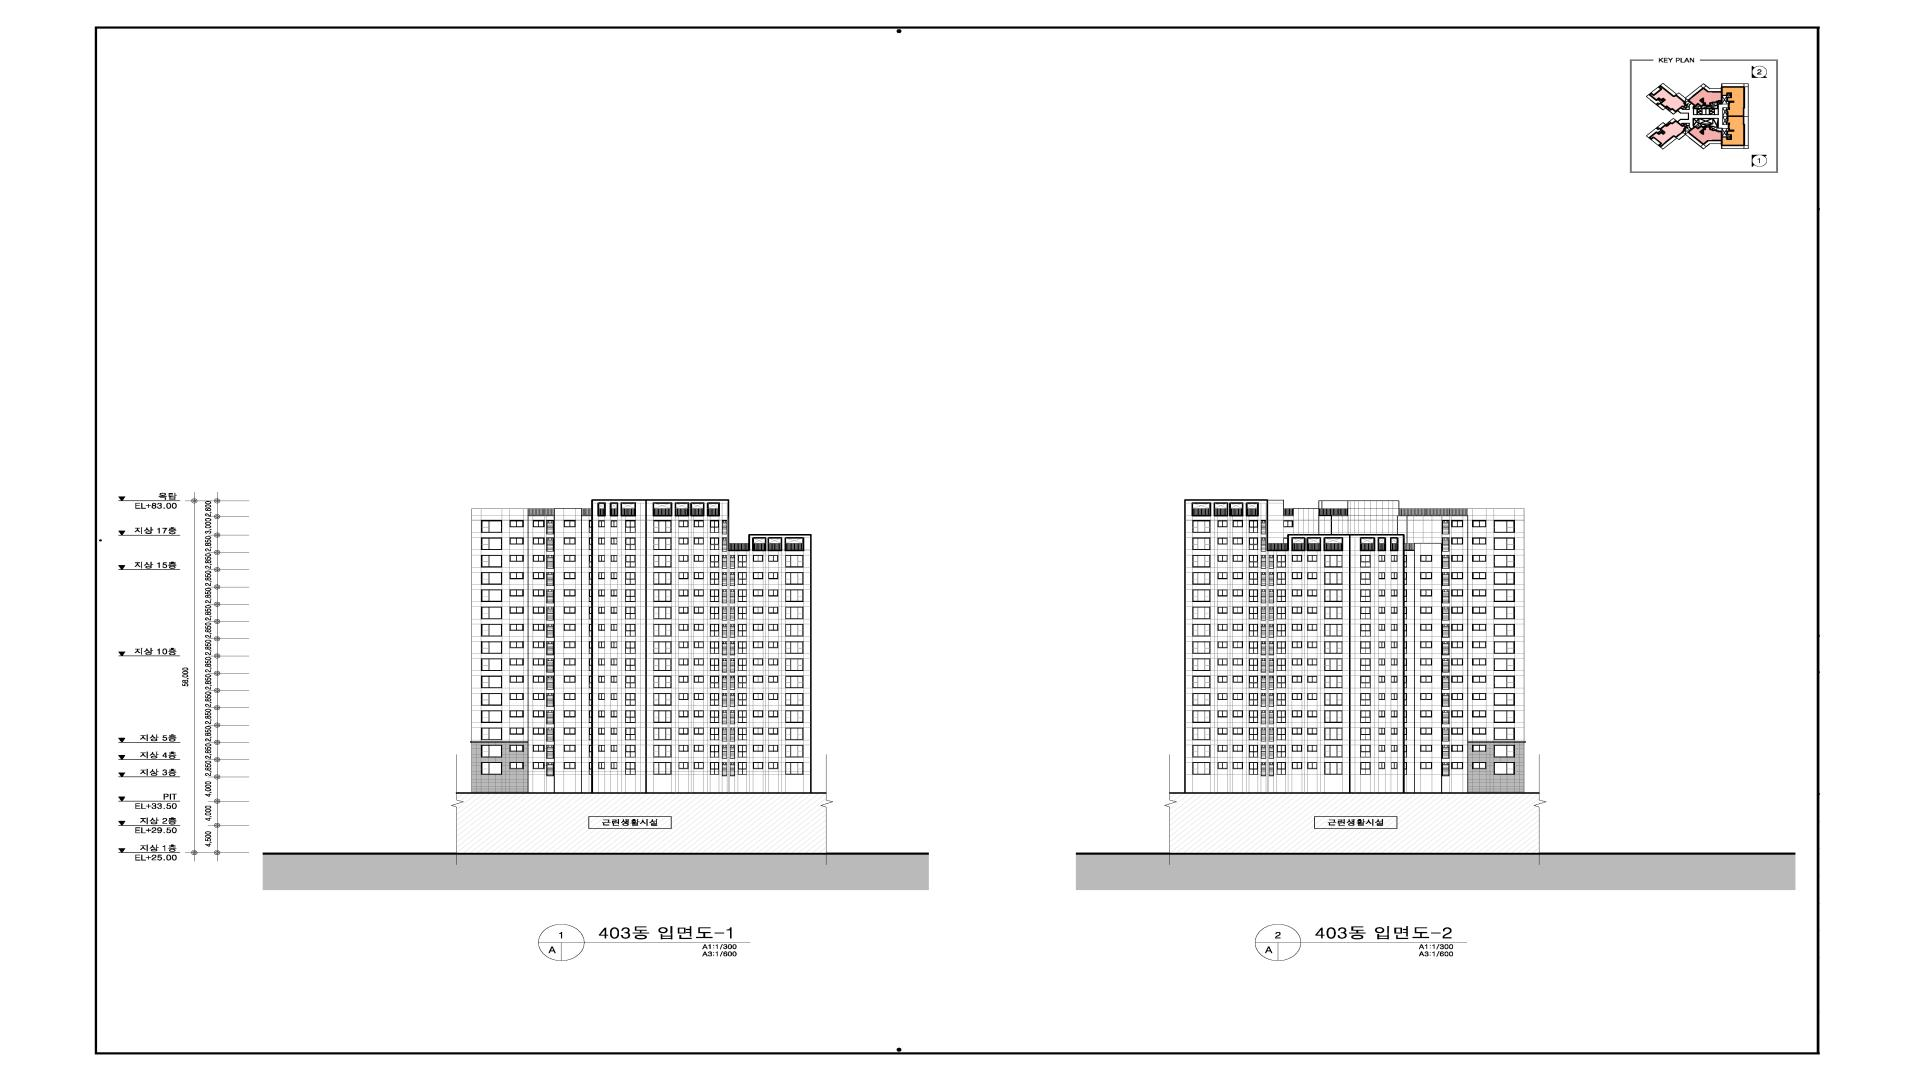door: (785, 537, 804, 551), (653, 502, 673, 517), (1324, 537, 1344, 551), (1192, 502, 1211, 516), (1360, 537, 1375, 551), (621, 502, 636, 517), (675, 502, 690, 517), (690, 502, 704, 517), (752, 537, 766, 551), (767, 537, 782, 551), (1307, 537, 1321, 551), (1291, 537, 1305, 551), (1213, 502, 1228, 517), (707, 502, 720, 517), (1229, 502, 1244, 516), (1246, 502, 1259, 517), (609, 502, 618, 517), (1390, 537, 1399, 551), (597, 502, 605, 517), (1378, 537, 1386, 551)
wall: (456, 500, 825, 855), (1170, 500, 1539, 855)
window: (480, 537, 502, 550), (480, 589, 502, 603), (480, 675, 502, 688), (481, 520, 502, 533), (481, 555, 502, 568), (481, 572, 502, 585), (481, 607, 502, 620), (481, 624, 502, 637), (481, 641, 502, 654), (481, 658, 502, 671), (481, 762, 502, 775), (481, 745, 502, 758), (1494, 520, 1515, 533), (1494, 537, 1515, 550), (1494, 555, 1515, 568), (1494, 572, 1515, 585), (1494, 762, 1515, 775), (1494, 589, 1515, 603), (1494, 607, 1515, 620), (1494, 624, 1515, 637), (1494, 641, 1515, 654), (1494, 658, 1515, 671), (1494, 675, 1515, 688), (481, 694, 502, 705), (481, 711, 502, 723), (481, 728, 502, 740), (1494, 694, 1515, 705), (1494, 711, 1515, 723), (1494, 728, 1515, 740), (1494, 745, 1515, 757), (653, 675, 671, 688), (653, 658, 671, 671), (653, 624, 671, 637), (653, 607, 671, 620), (653, 572, 671, 585), (785, 589, 803, 603), (785, 607, 803, 620), (785, 641, 803, 654), (785, 658, 803, 671), (785, 675, 803, 688), (1192, 520, 1211, 533), (1192, 537, 1211, 550), (1192, 572, 1211, 585), (1192, 589, 1211, 603), (1192, 607, 1211, 620), (1192, 624, 1211, 637), (1192, 641, 1211, 654), (1192, 658, 1211, 671), (1192, 675, 1211, 688), (1324, 675, 1342, 688), (1324, 658, 1342, 671), (1324, 641, 1342, 654), (1324, 745, 1342, 758), (1324, 624, 1342, 637), (1324, 607, 1342, 620), (1324, 589, 1342, 603), (1324, 762, 1342, 775), (654, 641, 671, 654), (654, 589, 671, 603), (654, 537, 671, 550), (654, 520, 671, 533), (786, 624, 803, 637), (786, 762, 803, 775), (653, 762, 671, 774), (653, 745, 671, 757), (653, 711, 671, 723), (653, 694, 671, 705), (785, 555, 803, 567), (785, 572, 803, 584), (785, 694, 803, 705), (785, 728, 803, 740), (1192, 555, 1211, 567), (1192, 694, 1211, 705), (1192, 711, 1211, 723), (1192, 728, 1211, 740), (1192, 745, 1211, 757), (1192, 762, 1211, 774), (1324, 728, 1342, 740), (1324, 572, 1342, 584), (1324, 555, 1342, 567), (1324, 711, 1342, 723), (1324, 694, 1342, 705), (654, 728, 671, 740), (654, 555, 671, 567), (786, 711, 803, 723), (786, 745, 803, 757), (625, 520, 636, 533), (625, 572, 636, 585), (625, 589, 636, 603), (625, 607, 636, 620), (625, 624, 636, 637), (625, 675, 636, 688), (625, 692, 636, 705), (625, 762, 636, 775), (625, 641, 636, 654), (625, 658, 636, 671), (1361, 658, 1371, 671), (1360, 641, 1370, 654), (1361, 624, 1371, 637), (1361, 607, 1371, 620), (625, 538, 636, 550), (625, 555, 636, 567), (625, 711, 636, 723), (625, 728, 636, 740), (625, 745, 636, 757), (709, 711, 720, 723), (1361, 589, 1371, 601), (1361, 572, 1371, 584), (1360, 555, 1370, 567), (1360, 745, 1370, 757), (1360, 711, 1370, 723), (737, 607, 746, 620), (737, 624, 746, 637), (709, 762, 719, 775), (709, 675, 719, 688), (709, 658, 719, 671), (709, 641, 719, 654), (709, 624, 719, 637), (709, 607, 719, 620), (709, 589, 719, 603), (709, 572, 719, 585), (709, 537, 719, 550), (709, 520, 719, 533), (737, 572, 746, 585), (737, 589, 746, 603), (737, 641, 746, 654), (737, 658, 746, 671), (737, 675, 746, 688), (1276, 624, 1286, 637), (1276, 607, 1286, 620), (1276, 641, 1286, 654), (1276, 658, 1286, 671), (1276, 675, 1286, 688), (1249, 675, 1258, 688), (1249, 658, 1258, 671), (1249, 641, 1258, 654), (1249, 624, 1258, 637), (1249, 607, 1258, 620), (1249, 520, 1258, 533), (1361, 675, 1370, 688), (509, 692, 524, 700), (509, 675, 524, 683), (509, 658, 524, 666), (509, 641, 524, 649), (509, 520, 524, 527), (546, 520, 554, 534), (546, 762, 554, 777), (546, 675, 554, 690), (546, 658, 554, 673), (546, 641, 554, 655), (546, 624, 554, 638), (546, 607, 554, 621), (546, 589, 554, 604), (1472, 520, 1486, 527), (1472, 537, 1486, 545), (1472, 624, 1486, 632), (1472, 641, 1486, 649), (1472, 658, 1486, 666), (1472, 675, 1486, 683), (1441, 520, 1449, 534), (1441, 555, 1449, 570), (1441, 572, 1449, 587), (1441, 589, 1449, 604), (1441, 607, 1449, 621), (1441, 624, 1449, 638), (1441, 641, 1449, 655), (1441, 658, 1449, 673), (1441, 675, 1449, 690), (1441, 745, 1449, 760), (1441, 762, 1449, 777), (709, 745, 719, 757), (709, 728, 719, 740), (709, 694, 719, 705), (709, 555, 719, 567), (737, 555, 746, 567), (737, 694, 746, 705), (737, 711, 746, 723), (737, 728, 746, 740), (737, 745, 746, 757), (737, 762, 746, 774), (1276, 555, 1286, 567), (1276, 572, 1286, 584), (1276, 589, 1286, 601), (1276, 694, 1286, 705), (1276, 711, 1286, 723), (1276, 728, 1286, 740), (1276, 745, 1286, 757), (1276, 762, 1286, 774), (1249, 762, 1258, 774), (1249, 745, 1258, 757), (1249, 728, 1258, 740), (1249, 589, 1258, 601), (1249, 572, 1258, 584), (1249, 555, 1258, 567), (1249, 538, 1258, 550), (1361, 762, 1370, 774), (1361, 728, 1370, 740), (1361, 694, 1370, 705), (1249, 711, 1258, 723), (1249, 694, 1258, 705), (563, 692, 576, 700), (563, 675, 576, 683), (546, 538, 554, 551), (563, 658, 576, 666), (563, 641, 576, 649), (563, 520, 576, 527), (546, 745, 554, 758), (546, 728, 554, 741), (546, 711, 554, 724), (546, 694, 554, 707), (546, 572, 554, 585), (546, 555, 554, 568), (1441, 538, 1449, 551), (1441, 694, 1449, 707), (1441, 711, 1449, 724), (1441, 728, 1449, 741), (509, 762, 524, 769), (509, 745, 524, 752), (509, 728, 524, 735), (509, 711, 524, 717), (509, 624, 524, 630), (509, 607, 524, 613), (509, 538, 524, 545), (509, 589, 524, 596), (509, 572, 524, 579), (509, 555, 524, 562), (1472, 555, 1486, 562), (1472, 572, 1486, 579), (1472, 589, 1486, 596), (1472, 607, 1486, 613), (1472, 694, 1486, 700), (1472, 711, 1486, 717), (1472, 728, 1486, 735), (1472, 745, 1486, 752), (1472, 762, 1486, 769), (533, 658, 545, 666), (533, 675, 545, 683), (563, 537, 575, 545), (533, 520, 545, 527), (533, 537, 545, 545), (1451, 537, 1462, 545), (1452, 520, 1464, 527), (1420, 675, 1432, 683), (1452, 675, 1464, 683), (563, 762, 576, 769), (563, 728, 576, 735), (563, 711, 576, 717), (563, 624, 576, 630), (563, 607, 576, 613), (563, 589, 576, 596), (563, 572, 576, 579), (563, 555, 576, 562), (694, 675, 704, 683), (694, 658, 704, 666), (694, 537, 704, 545), (694, 520, 704, 527), (678, 641, 688, 649), (678, 658, 688, 666), (753, 675, 764, 683), (1233, 520, 1244, 527), (1217, 624, 1228, 632), (1307, 675, 1317, 683), (1307, 658, 1317, 666), (1307, 641, 1317, 649), (1283, 520, 1294, 527), (1217, 641, 1228, 649), (1217, 658, 1228, 666), (1217, 675, 1228, 683), (1233, 675, 1244, 683), (563, 745, 575, 752), (533, 641, 545, 647), (533, 694, 545, 700), (533, 711, 545, 717), (533, 728, 545, 735), (533, 745, 545, 752), (533, 762, 545, 769), (533, 555, 545, 562), (533, 572, 545, 579), (533, 589, 545, 596), (533, 607, 545, 613), (533, 624, 545, 630), (1452, 624, 1464, 630), (1452, 589, 1464, 596), (1452, 572, 1464, 579), (1451, 555, 1462, 562), (1420, 555, 1432, 562), (1420, 572, 1432, 579), (1420, 589, 1432, 596), (1420, 607, 1432, 613), (1420, 624, 1432, 630), (1420, 641, 1432, 647), (1420, 658, 1432, 665), (1420, 694, 1432, 700), (1420, 711, 1432, 717), (1420, 728, 1432, 735), (1420, 745, 1432, 752), (1420, 762, 1432, 769), (1451, 762, 1462, 769), (1452, 745, 1464, 752), (1452, 728, 1464, 735), (1451, 711, 1462, 717), (1451, 694, 1462, 700), (1451, 658, 1462, 665), (1451, 641, 1462, 647), (721, 589, 727, 604), (721, 607, 727, 621), (721, 624, 727, 638), (721, 641, 727, 655), (721, 658, 727, 673), (721, 675, 727, 690), (721, 762, 727, 777), (721, 520, 727, 534), (721, 537, 727, 551), (721, 572, 727, 587), (1261, 572, 1266, 587), (1261, 589, 1266, 604), (1261, 607, 1266, 621), (1261, 624, 1266, 638), (1261, 641, 1266, 655), (1261, 658, 1266, 673), (1261, 675, 1266, 690), (1261, 692, 1266, 707), (1261, 762, 1266, 777), (1269, 762, 1274, 777), (1269, 675, 1274, 690), (1269, 658, 1274, 673), (1269, 641, 1274, 655), (1269, 624, 1274, 638), (1269, 607, 1274, 621), (1261, 520, 1266, 534), (1269, 589, 1274, 604), (1269, 572, 1274, 587), (679, 520, 688, 527), (679, 624, 688, 632), (679, 675, 688, 683), (679, 692, 688, 700), (769, 675, 778, 683), (769, 658, 778, 666), (1292, 641, 1302, 649), (1292, 658, 1302, 666), (1292, 675, 1302, 683), (753, 728, 764, 735), (753, 745, 764, 752), (753, 762, 764, 769), (694, 762, 704, 769), (694, 745, 704, 752), (694, 728, 704, 735), (694, 711, 704, 717), (694, 694, 704, 700), (694, 641, 704, 647), (694, 624, 704, 630), (694, 607, 704, 613), (694, 589, 704, 596), (694, 572, 704, 579), (694, 555, 704, 562), (678, 555, 688, 562), (678, 589, 688, 596), (678, 711, 688, 717), (678, 728, 688, 735), (678, 745, 688, 752), (678, 762, 688, 769), (721, 711, 727, 724), (721, 728, 727, 741), (721, 745, 727, 758), (753, 555, 764, 562), (753, 572, 764, 579), (753, 589, 764, 596), (753, 607, 764, 613), (753, 624, 764, 630), (753, 641, 764, 647), (753, 658, 764, 665), (753, 694, 764, 700), (753, 711, 764, 717), (729, 555, 735, 568), (721, 555, 727, 568), (1233, 555, 1244, 562), (1233, 538, 1244, 545), (1452, 607, 1462, 613), (1261, 538, 1266, 551), (1261, 555, 1266, 568), (1261, 711, 1266, 724), (1261, 728, 1266, 741), (1261, 745, 1266, 758), (1269, 745, 1274, 758), (1269, 728, 1274, 741), (1269, 711, 1274, 724), (1269, 694, 1274, 707), (1217, 521, 1228, 527), (1217, 538, 1228, 545), (1217, 555, 1228, 562), (1217, 572, 1228, 579), (1217, 589, 1228, 596), (1217, 607, 1228, 613), (1307, 762, 1317, 769), (1307, 745, 1317, 752), (1307, 728, 1317, 735), (1307, 694, 1317, 700), (1307, 624, 1317, 630), (1307, 607, 1317, 613), (1307, 589, 1317, 596), (1307, 572, 1317, 579), (1307, 555, 1317, 562), (1269, 555, 1274, 568), (1217, 694, 1228, 700), (1217, 711, 1228, 717), (1217, 728, 1228, 735), (1217, 745, 1228, 752), (1217, 762, 1228, 769), (1233, 762, 1244, 769), (679, 538, 688, 545), (679, 572, 688, 579), (679, 607, 688, 613), (769, 762, 778, 769), (769, 745, 778, 752), (769, 728, 778, 735), (769, 711, 778, 717), (769, 694, 778, 700), (769, 641, 778, 647), (769, 624, 778, 630), (769, 607, 778, 613), (769, 589, 778, 596), (769, 572, 778, 579), (769, 555, 778, 562), (1233, 641, 1242, 647), (1233, 624, 1242, 630), (1233, 607, 1242, 613), (1233, 589, 1242, 596), (1233, 572, 1242, 579), (1292, 555, 1302, 562), (1292, 572, 1302, 579), (1292, 589, 1302, 596), (1292, 607, 1302, 613), (1292, 624, 1302, 630), (1292, 694, 1302, 700), (1292, 711, 1302, 717), (1292, 728, 1302, 735), (1292, 745, 1302, 752), (1292, 762, 1302, 769), (1308, 711, 1317, 717), (1233, 745, 1242, 752), (1233, 728, 1242, 735), (1233, 711, 1242, 717), (1233, 694, 1242, 700), (1233, 658, 1242, 665), (731, 762, 735, 777), (731, 675, 735, 690), (731, 658, 735, 673), (731, 641, 735, 655), (731, 624, 735, 638), (731, 607, 735, 621), (599, 658, 605, 666), (599, 675, 605, 683), (611, 675, 617, 683), (611, 658, 617, 666), (611, 641, 617, 649), (611, 520, 617, 527), (723, 694, 727, 707), (731, 745, 735, 758), (731, 728, 735, 741), (731, 711, 735, 724), (731, 694, 735, 707), (731, 589, 735, 603), (731, 572, 735, 585), (1378, 675, 1385, 683), (1379, 658, 1386, 666), (1378, 641, 1385, 649), (1378, 624, 1385, 632), (1391, 624, 1398, 632), (1391, 641, 1398, 649), (1391, 658, 1398, 666), (1391, 675, 1398, 683), (599, 521, 605, 527), (599, 762, 605, 769), (611, 762, 617, 769), (611, 745, 617, 752), (611, 728, 617, 735), (611, 711, 617, 717), (611, 694, 617, 700), (611, 624, 617, 630), (611, 607, 617, 613), (611, 589, 617, 596), (611, 572, 617, 579), (611, 555, 617, 562), (611, 538, 617, 545), (599, 538, 605, 545), (599, 555, 605, 562), (599, 572, 605, 579), (599, 694, 605, 700), (599, 711, 605, 717), (599, 589, 605, 596), (599, 607, 605, 613), (599, 624, 605, 630), (599, 641, 605, 647), (599, 728, 605, 735), (599, 745, 605, 752), (1378, 762, 1385, 769), (1378, 745, 1385, 752), (1378, 728, 1385, 735), (1378, 711, 1385, 717), (1378, 694, 1385, 700), (1378, 607, 1385, 613), (1378, 589, 1385, 596), (1379, 572, 1386, 579), (1378, 555, 1385, 562), (1391, 555, 1398, 562), (1391, 572, 1398, 579), (1391, 589, 1398, 596), (1391, 607, 1398, 613), (1391, 694, 1398, 700), (1391, 711, 1398, 717), (1391, 728, 1398, 735), (1391, 745, 1398, 752), (1391, 762, 1398, 769)
